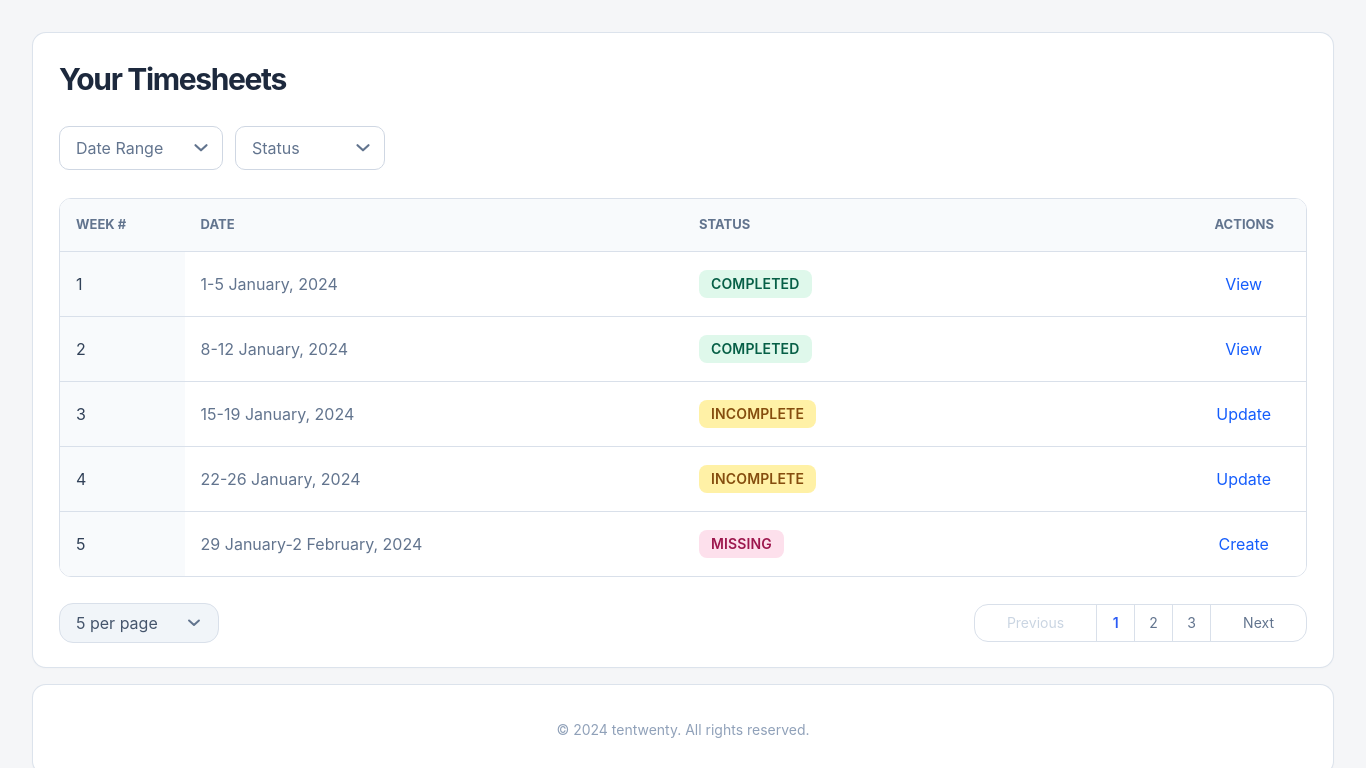
it: TimesheetsPage › allows selecting 5 rows per page after switching to 10
Select "10 per page" in the dropdown named "Rows per page" at (139, 622), box x1=59 y1=602 x2=219 y2=642
(page scrolled)
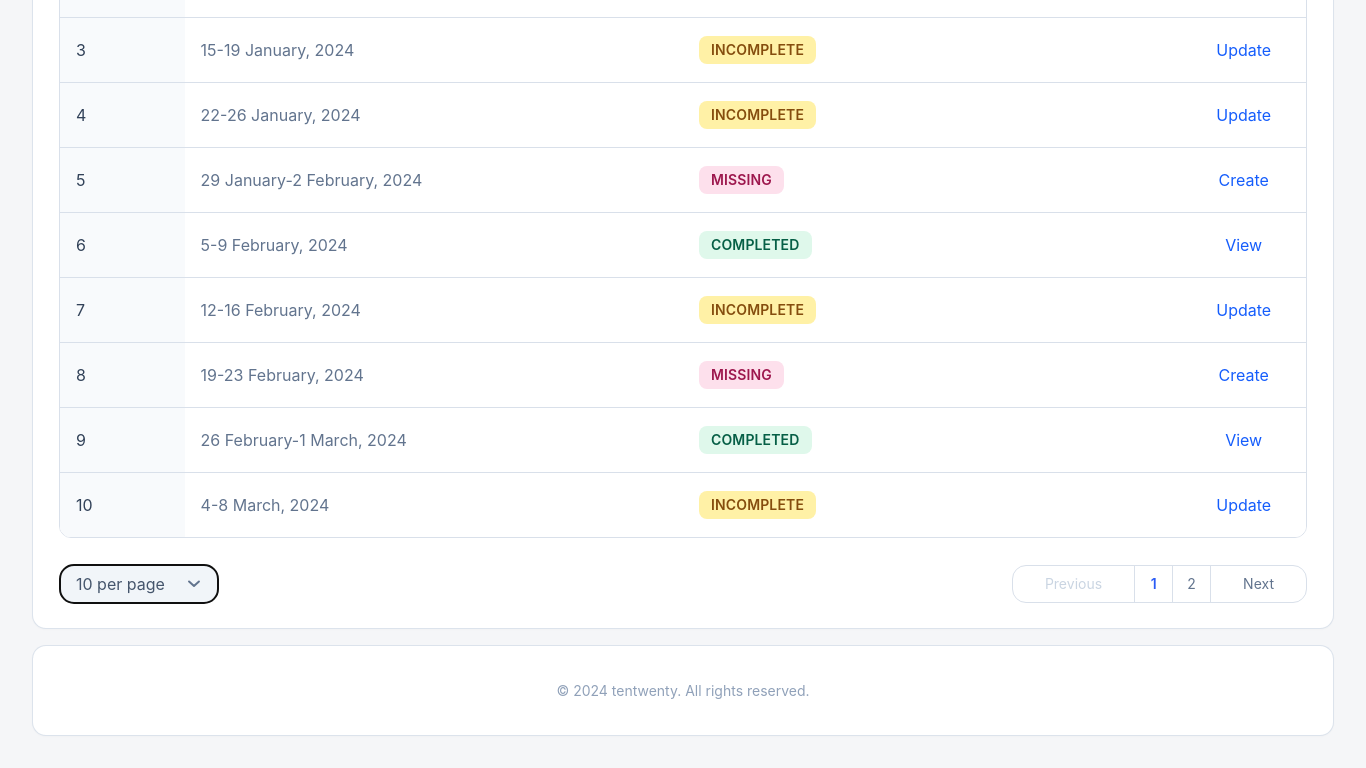
Now the text "5-9 February, 2024" is shown, box x1=185 y1=212 x2=683 y2=277
Select "5 per page" in the dropdown named "Rows per page" at (139, 584), box x1=59 y1=564 x2=219 y2=604
(page scrolled)
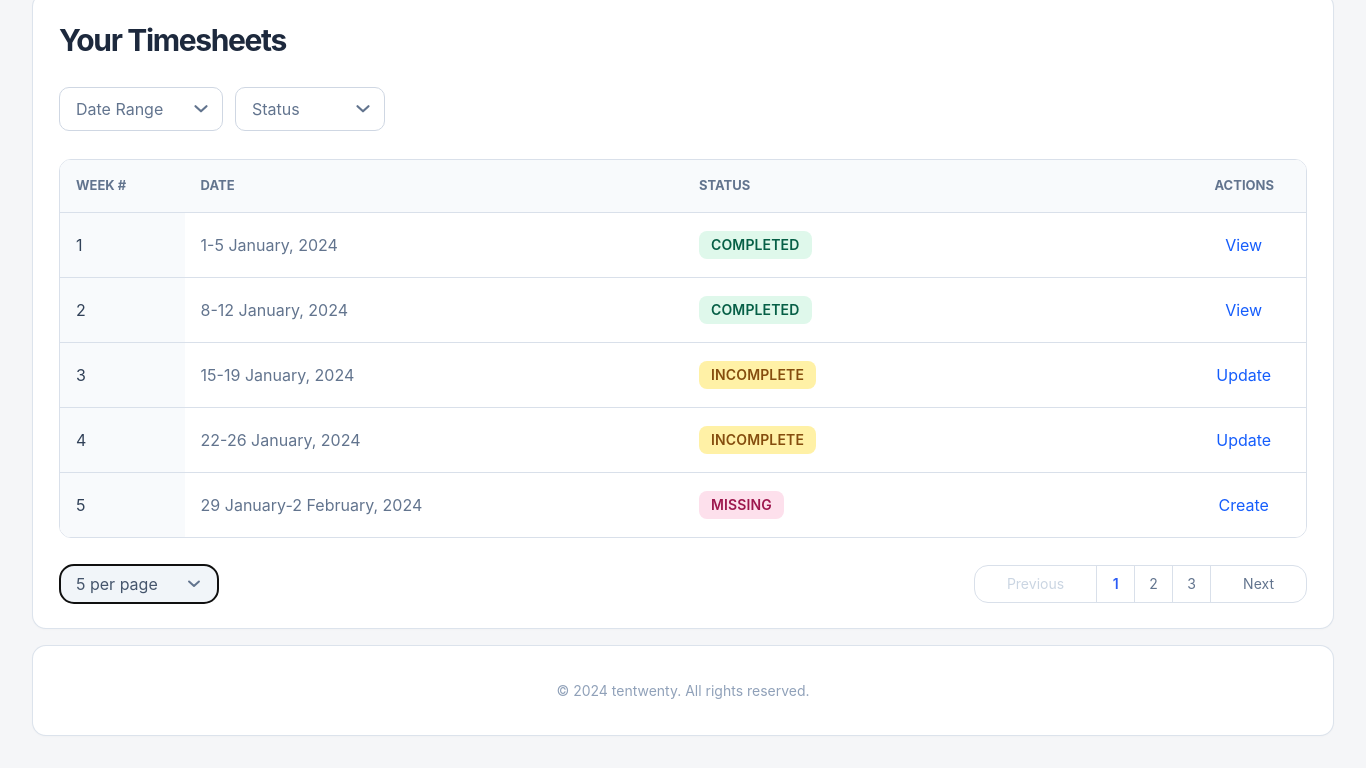
Now the text "5-9 February, 2024" is gone
